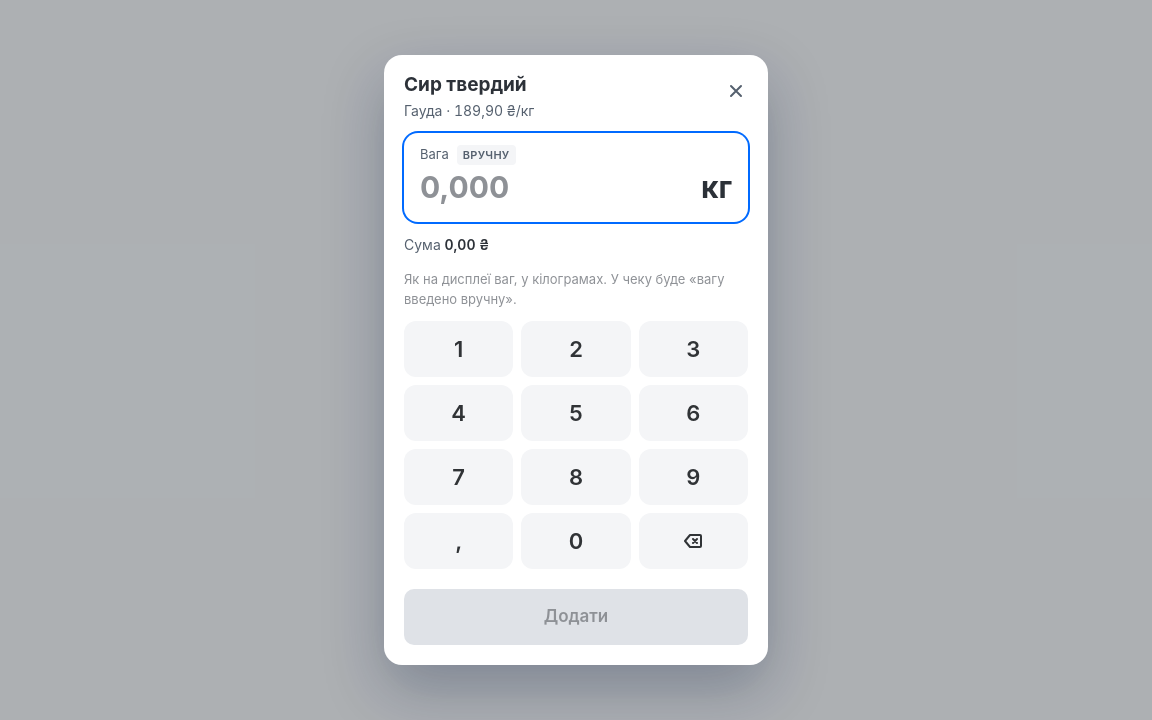
Test: WeightPad › takes a weight typed on a keyboard and submits on Enter
Type "1.457" into the field with test id "weight-pad-input" at (557,188), box left=420, top=165, right=695, bottom=210
Then press Enter
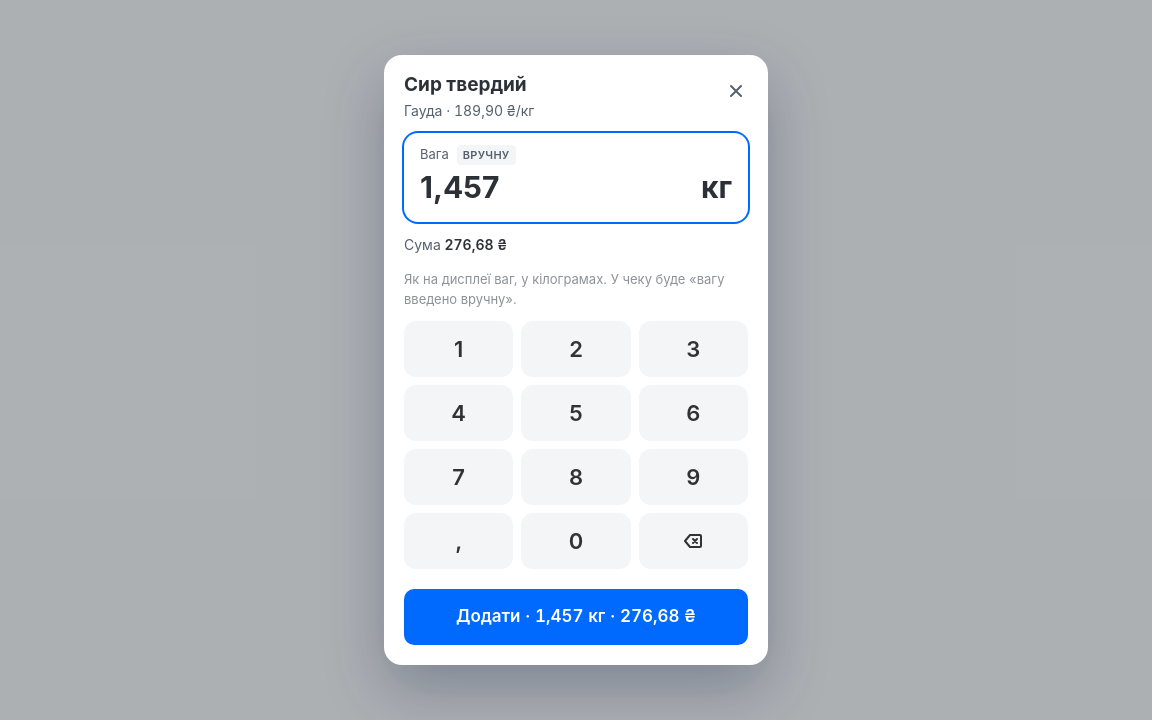
expect the field with test id "weight-pad-input" holds "1,457": met, box left=420, top=165, right=695, bottom=210
